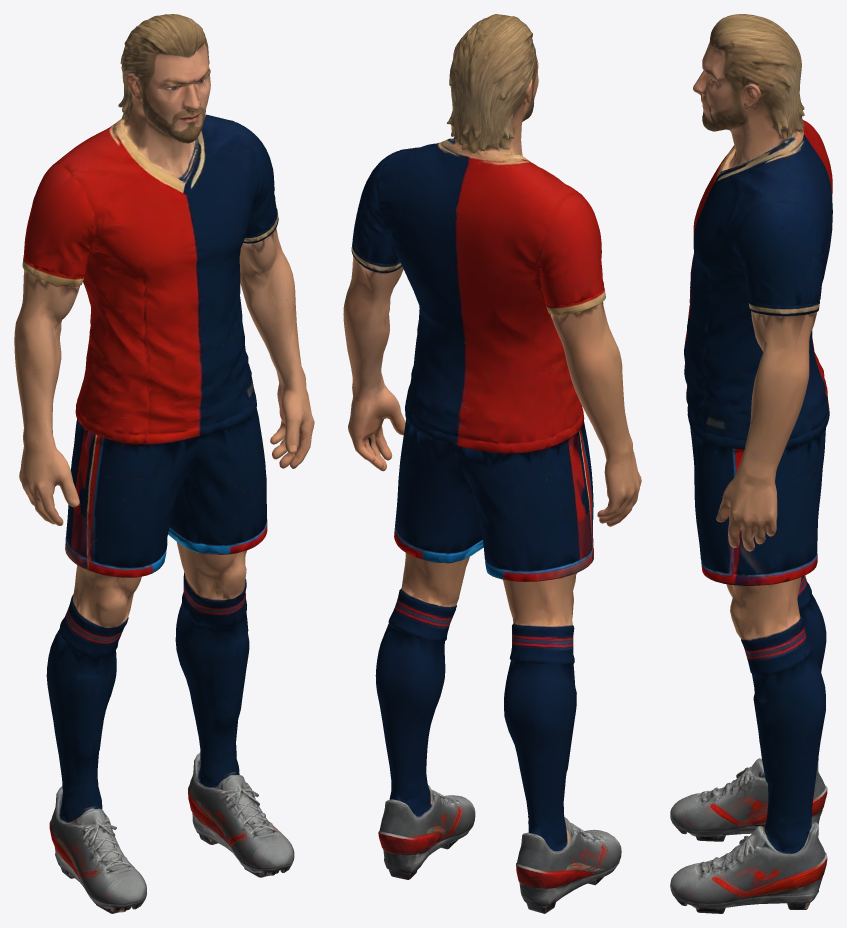
The model's file is viking.glb.
3 renders of one model, left to right at view 1: azimuth 30°, elevation 25°; view 2: azimuth 150°, elevation 25°; view 3: azimuth 270°, elevation 25°, orthographic.
Visible parts, largest first — view 1: mesh_node; view 2: mesh_node; view 3: mesh_node.
Boxes of the visible parts, bbox=[...] form: mesh_node: bbox=[14, 14, 314, 913]; mesh_node: bbox=[343, 14, 641, 913]; mesh_node: bbox=[670, 14, 832, 913].
Bounding box in the file's own units: 0.6594 × 1.9 × 0.3286.
1 material, 1 textured.
